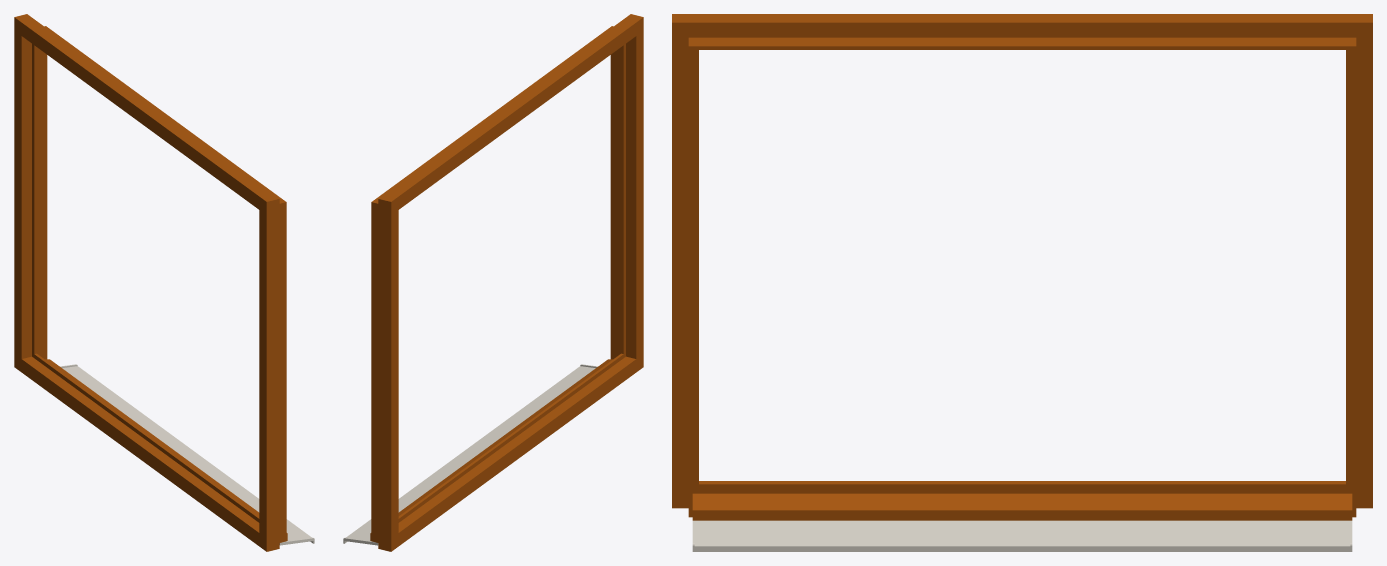
File: 3X414Lh312cfMiVfxwG4Gb.dae
3 views of the same model, side by side, from view 1: azimuth 30°, elevation 25°; view 2: azimuth 150°, elevation 25°; view 3: azimuth 270°, elevation 25° (orthographic). The views are drawn at different scales.
Visible parts, largest first — view 1: product-e1101115-ac30-429a-95ac-7e9efa404425-body; view 2: product-e1101115-ac30-429a-95ac-7e9efa404425-body; view 3: product-e1101115-ac30-429a-95ac-7e9efa404425-body.
Boxes of the visible parts, x1,y1,x2,y2 form: product-e1101115-ac30-429a-95ac-7e9efa404425-body: (14,14,314,551); product-e1101115-ac30-429a-95ac-7e9efa404425-body: (343,14,643,551); product-e1101115-ac30-429a-95ac-7e9efa404425-body: (672,14,1372,551).
Bounding box in the file's own units: 0.215 × 1.7 × 1.34.
